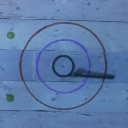Axe Tip: (73, 72, 83, 74)
